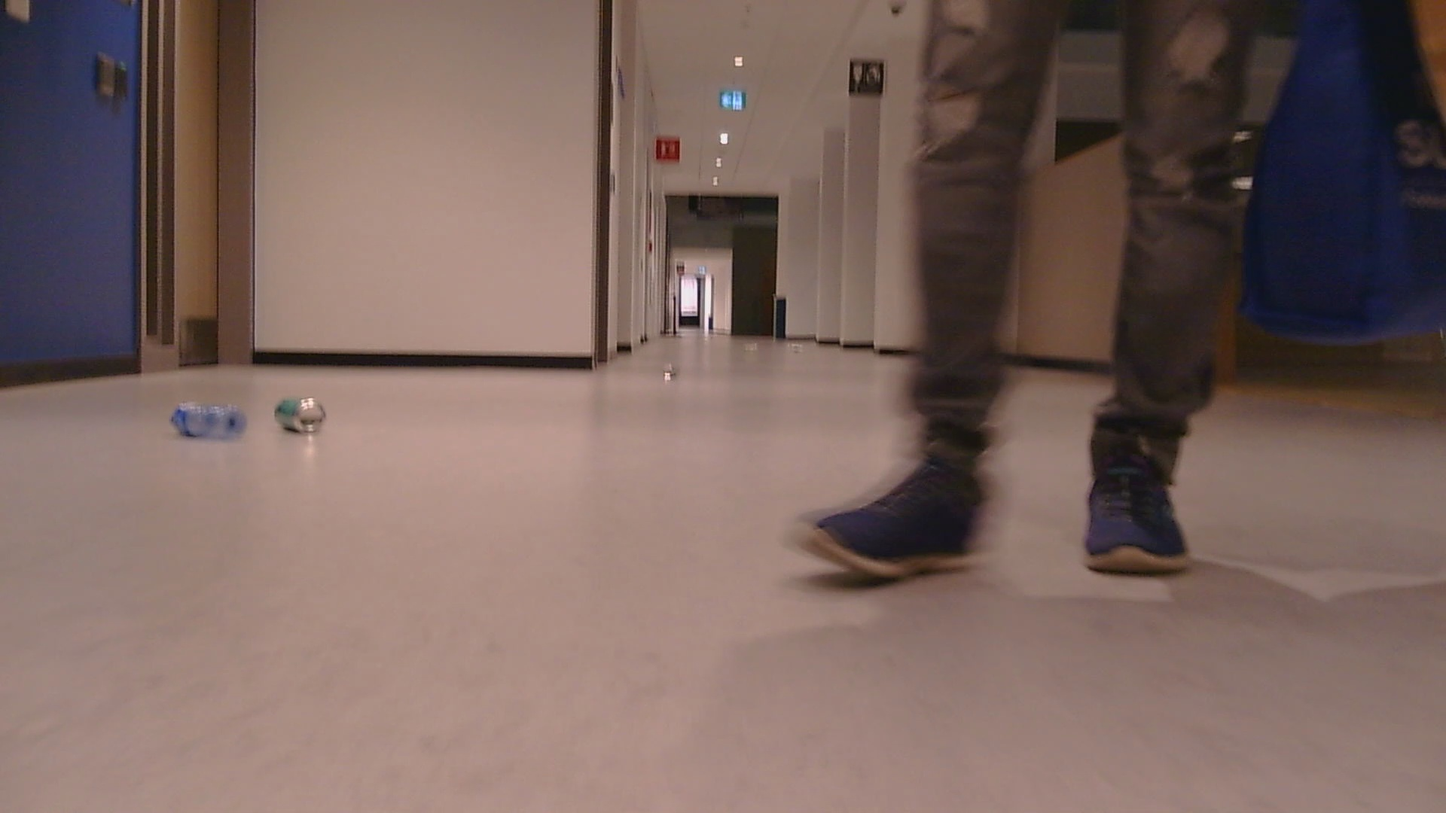carton: (269, 390, 371, 437), (166, 397, 243, 436), (658, 357, 689, 392)
